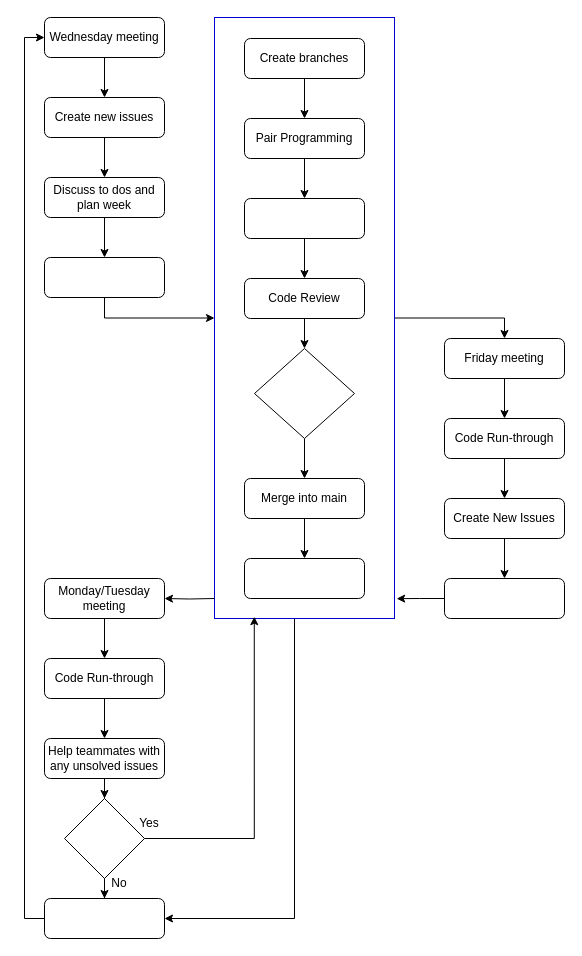
This 582x956 diagram has some shape labels left out. The shapes that lost their labels are listed below. From the top down, each one's box as (x1, y1, x2, y2) in pixels, then its label:
(244, 198, 364, 238): Pull Request to Main
(44, 256, 164, 298): Split into groups
(254, 348, 354, 438): code passes workflow?
(244, 558, 364, 598): Work on other issues
(444, 578, 564, 618): Update logbook
(64, 798, 144, 878): Have remaining issues?
(44, 898, 164, 938): Prepare for next lecture
